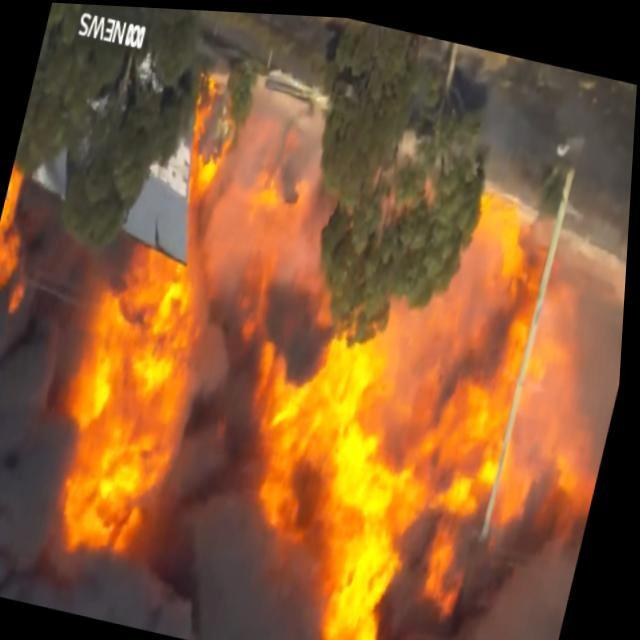fire: (174, 136, 634, 640), (32, 236, 228, 568), (170, 61, 252, 213), (0, 174, 54, 318)
